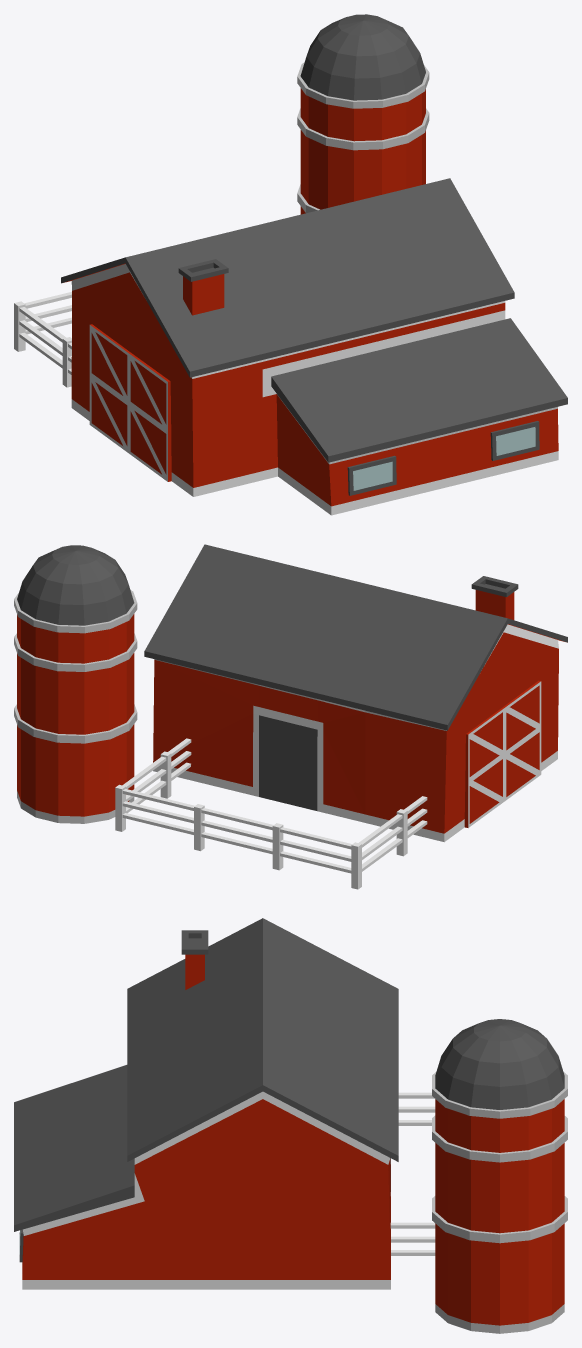
The model's file is Farm_2.obj.
3 renders of one model, top to bottom at view 1: azimuth 30°, elevation 25°; view 2: azimuth 150°, elevation 25°; view 3: azimuth 270°, elevation 25°, orthographic. The views are drawn at different scales.
Visible parts, largest first — view 1: 1267_Farm; view 2: 1267_Farm; view 3: 1267_Farm.
Part boxes in pixels (left/top/right/bottom): 1267_Farm: left=14, top=14, right=567, bottom=515; 1267_Farm: left=14, top=544, right=567, bottom=889; 1267_Farm: left=14, top=918, right=567, bottom=1333.
Size of the model in its own units: 194 by 121 by 216.
1 material, 1 textured.
